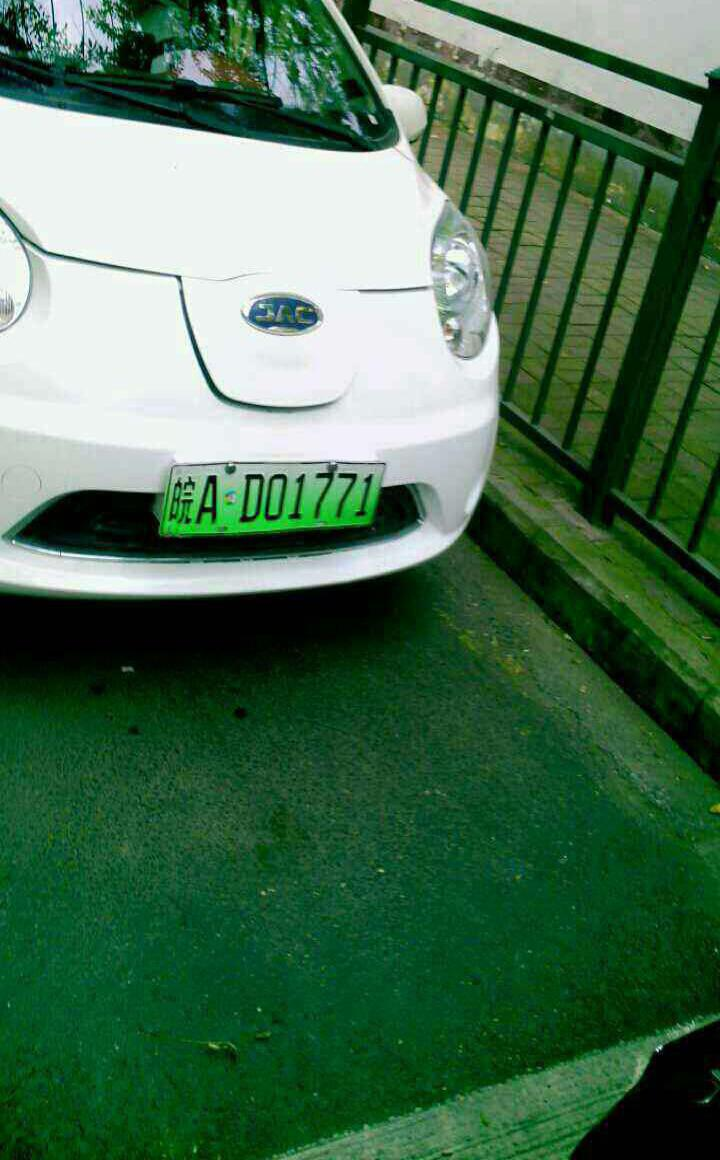car_id: (159, 461, 385, 531)
